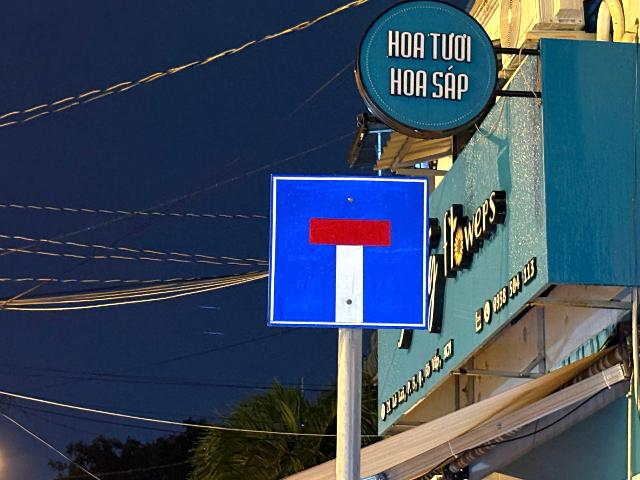duong-cut: (270, 173, 429, 329)
